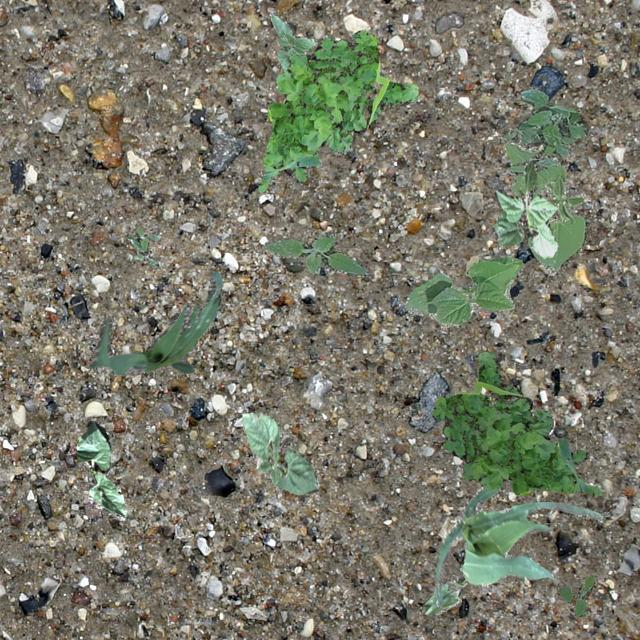crop: (434, 486, 602, 606), (88, 270, 222, 374), (504, 140, 586, 272), (404, 256, 522, 326), (492, 160, 558, 258), (240, 412, 318, 493), (76, 420, 126, 520), (268, 12, 316, 70), (422, 560, 467, 614)
weed: (258, 28, 418, 192), (430, 350, 600, 494), (502, 85, 588, 194), (262, 232, 366, 276), (554, 572, 594, 616), (126, 227, 160, 264)
